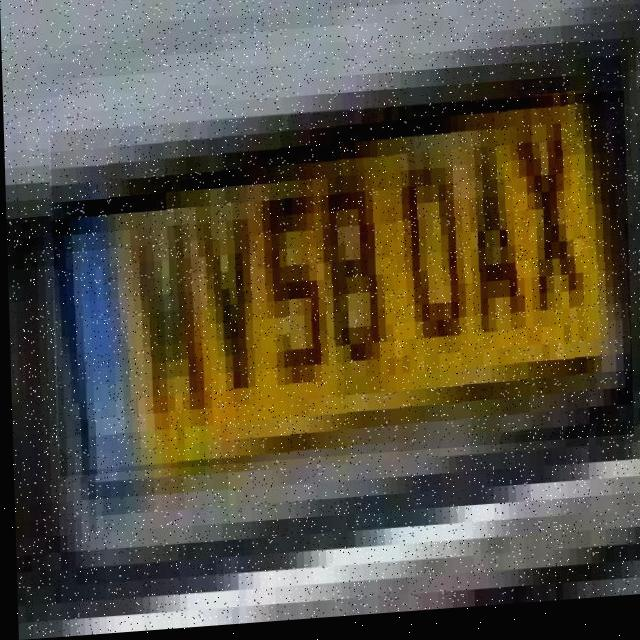LicensePlate: (49, 100, 631, 477)
